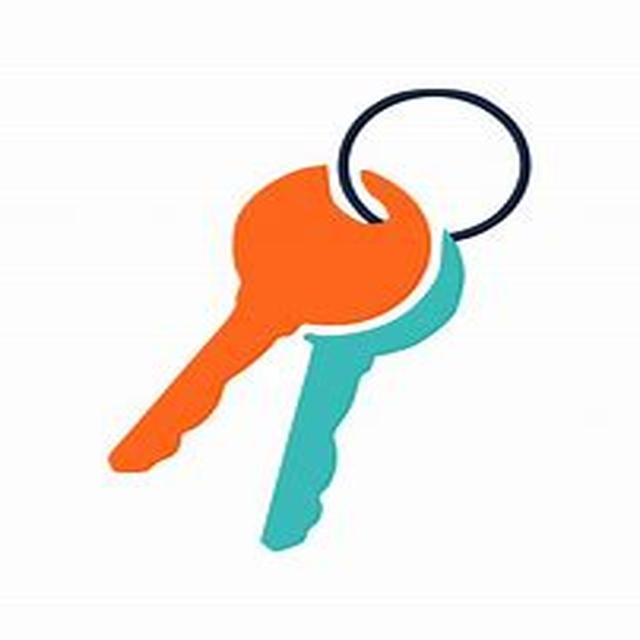key: (75, 96, 493, 592)
